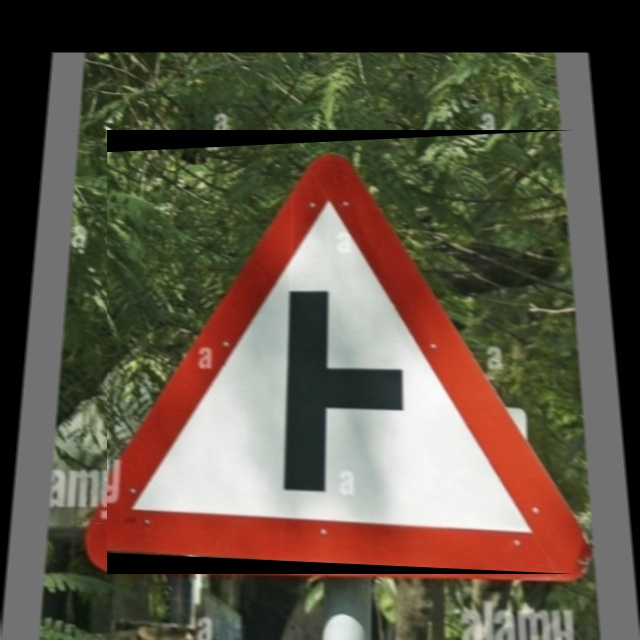Side_Road_Right: (107, 130, 574, 574)
